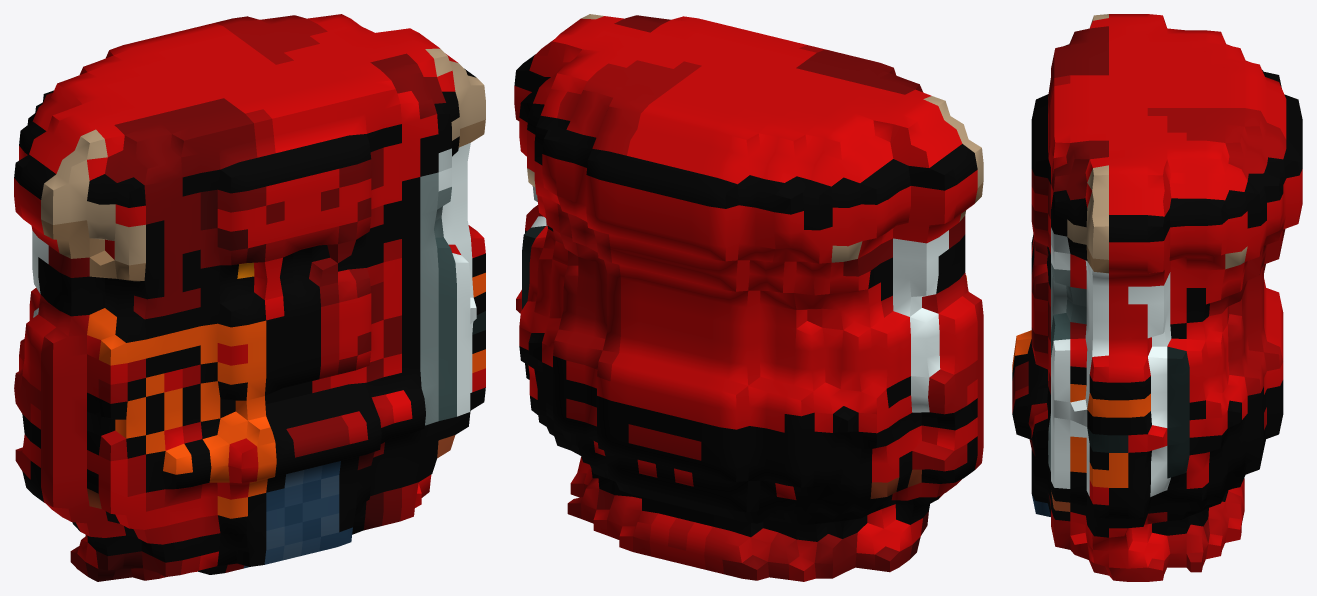
The model's file is Icon_741_03.obj.
3 renders of one model, left to right at view 1: azimuth 30°, elevation 25°; view 2: azimuth 150°, elevation 25°; view 3: azimuth 270°, elevation 25°, orthographic. The views are drawn at different scales.
Size of the model in its own units: 2.4 by 2.4 by 1.5.
Materials: 1 (1 with a texture image).
